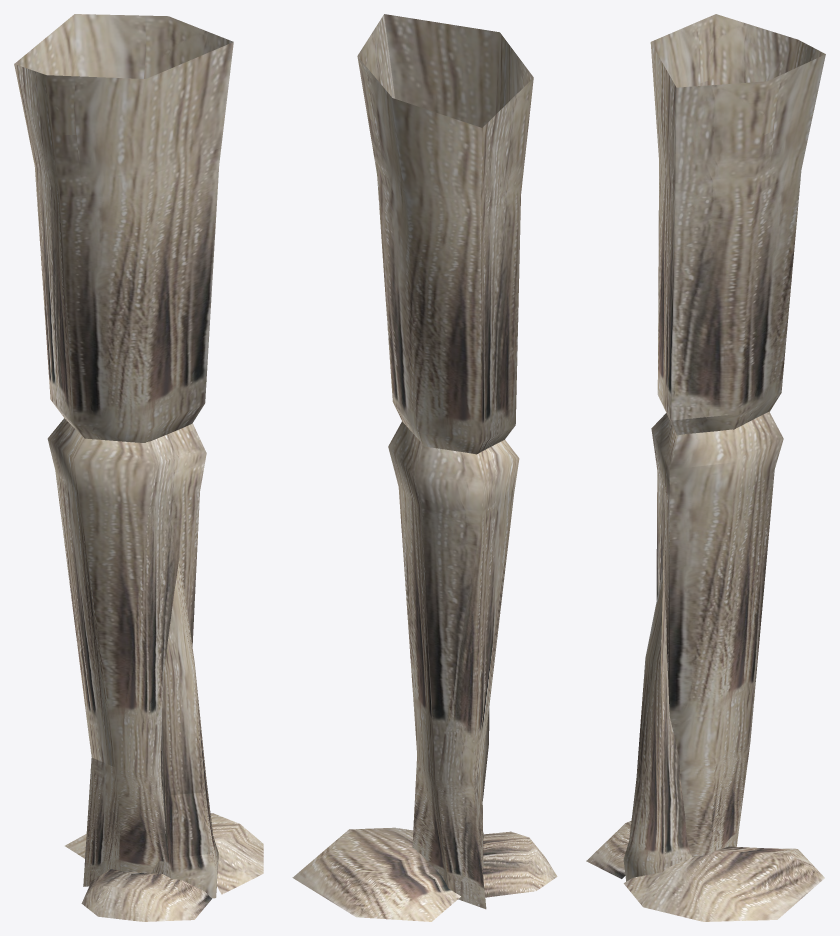
Rendered from pir_m_prp_cav_column_whiteA.fbx.
3 views of the same model, side by side, from view 1: azimuth 30°, elevation 25°; view 2: azimuth 150°, elevation 25°; view 3: azimuth 270°, elevation 25° (orthographic). The views are drawn at different scales.
Visible parts, largest first — view 1: pCylinder41, pCylinder37, pCylinder30, pCube16, pCube15; view 2: pCylinder41, pCylinder37, pCube15, pCube16; view 3: pCylinder41, pCylinder37, pCube15, pCylinder30, pCube16.
Part boxes in pixels (x1,y1,x2,y2): pCylinder41: (14, 14, 233, 442); pCylinder37: (47, 418, 206, 886); pCylinder30: (151, 557, 218, 898); pCube16: (81, 869, 211, 921); pCube15: (65, 813, 263, 894); pCylinder41: (357, 14, 533, 454); pCylinder37: (388, 421, 519, 909); pCube15: (292, 827, 460, 921); pCube16: (482, 831, 557, 897); pCylinder41: (650, 14, 825, 435); pCylinder37: (651, 411, 783, 857); pCube15: (623, 846, 824, 921); pCylinder30: (623, 549, 692, 881); pCube16: (586, 820, 631, 878).
Size of the model in its own units: 1468 by 5540 by 1463.
Materials: 1 (1 with a texture image).
